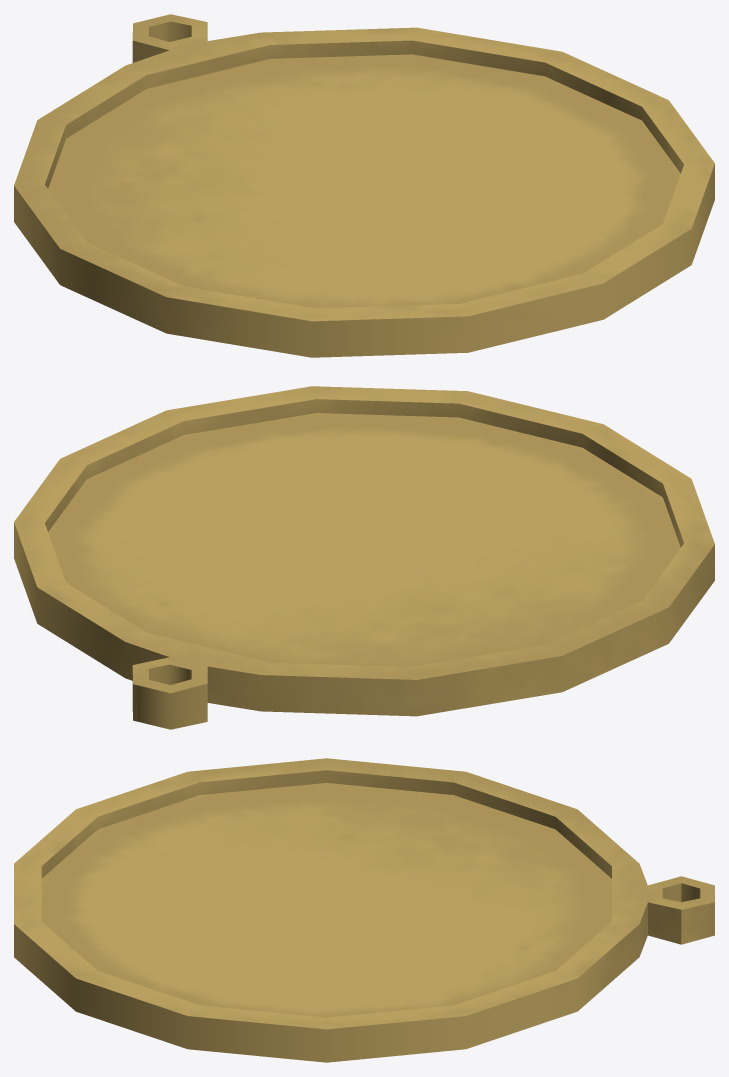
Rendered from SM_Souvenirs01P.FBX.
3 renders of one model, top to bottom at view 1: azimuth 30°, elevation 25°; view 2: azimuth 150°, elevation 25°; view 3: azimuth 270°, elevation 25°, orthographic. The views are drawn at different scales.
Parts seen in each view (by area): view 1: SM_Souvenirs01P_LOD0; view 2: SM_Souvenirs01P_LOD0; view 3: SM_Souvenirs01P_LOD0.
Boxes of the visible parts, bbox=[...] form: SM_Souvenirs01P_LOD0: bbox=[14, 14, 714, 357]; SM_Souvenirs01P_LOD0: bbox=[14, 386, 714, 729]; SM_Souvenirs01P_LOD0: bbox=[14, 758, 714, 1062].
Size of the model in its own units: 5.07 by 5.54 by 0.3098.
